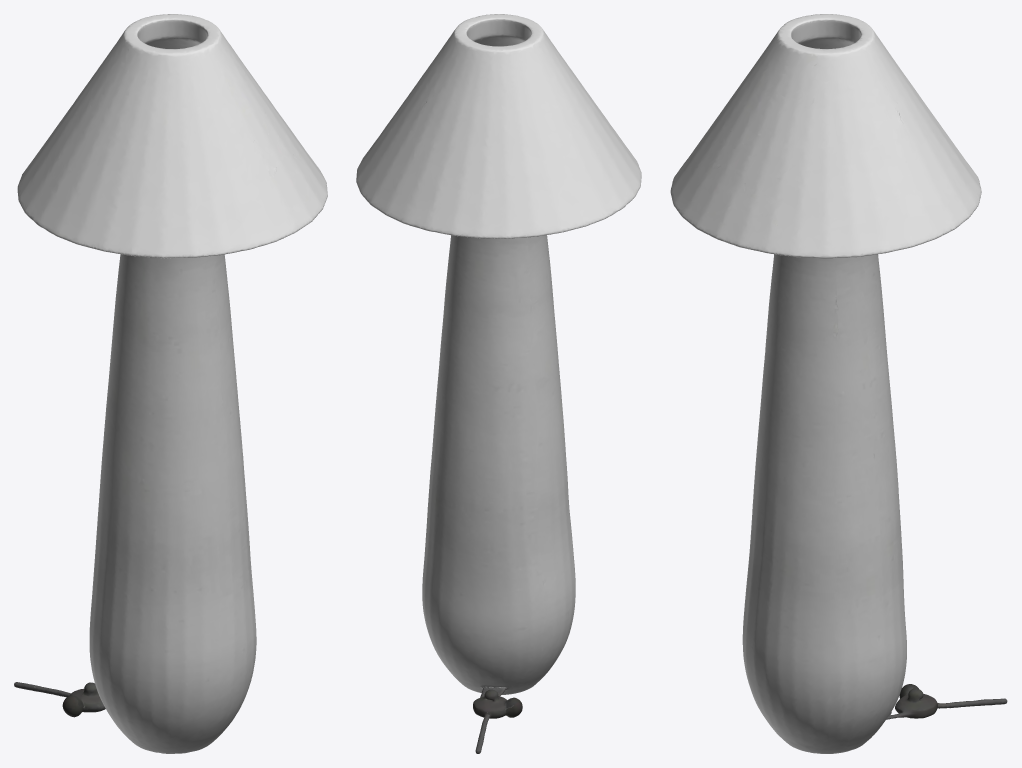
The model's file is lamp.glb.
3 renders of one model, left to right at view 1: azimuth 30°, elevation 25°; view 2: azimuth 150°, elevation 25°; view 3: azimuth 270°, elevation 25°, orthographic. The views are drawn at different scales.
Parts seen in each view (by area): view 1: geometry_0; view 2: geometry_0; view 3: geometry_0.
Part boxes in pixels (x1,y1,x2,y2): geometry_0: [14, 14, 327, 753]; geometry_0: [356, 14, 641, 753]; geometry_0: [670, 14, 1007, 753].
Bounding box in the file's own units: 0.4029 × 1 × 0.4361.
Materials: 1 (1 with a texture image).
